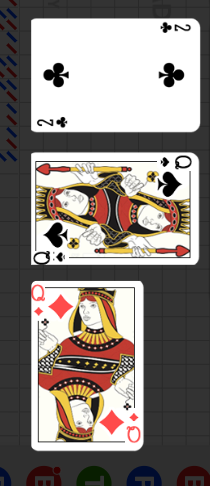2C: (35, 115, 70, 129)
9D: (126, 411, 142, 445), (31, 283, 45, 318)
